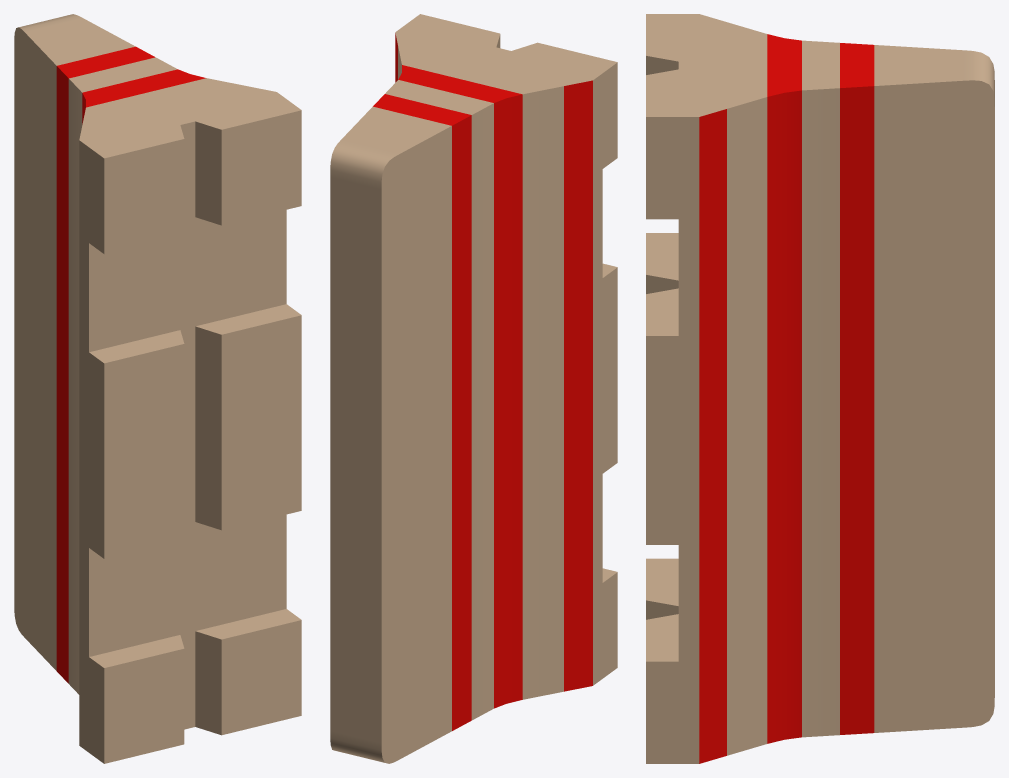
The model's file is Barrier1.fbx.
3 views of the same model, side by side, from view 1: azimuth 30°, elevation 25°; view 2: azimuth 150°, elevation 25°; view 3: azimuth 270°, elevation 25° (orthographic). The views are drawn at different scales.
Parts seen in each view (by area): view 1: Road barrier; view 2: Road barrier; view 3: Road barrier.
Boxes of the visible parts, bbox=[...] form: Road barrier: bbox=[14, 14, 301, 763]; Road barrier: bbox=[330, 14, 617, 763]; Road barrier: bbox=[646, 14, 994, 763].
Bounding box in the file's own units: 0.6832 × 2 × 0.9772.
